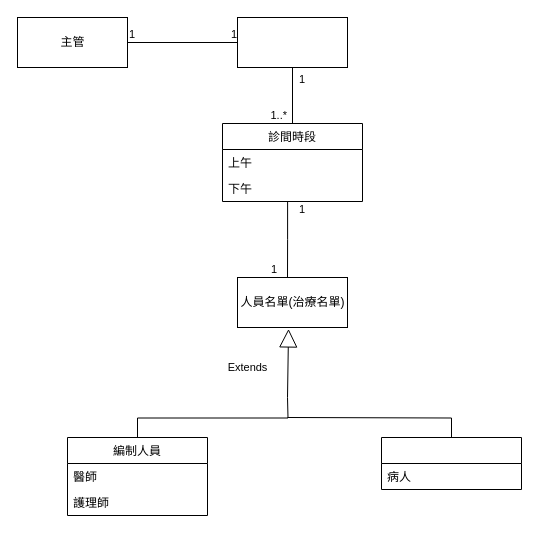
Image size: 539x536. Some labels were removed from this diagram. Here are the shapes that lost their labels. From the top down, the box of each, then its label:
(236, 16, 348, 68): 診間資訊
(380, 436, 522, 490): 非編制人員
